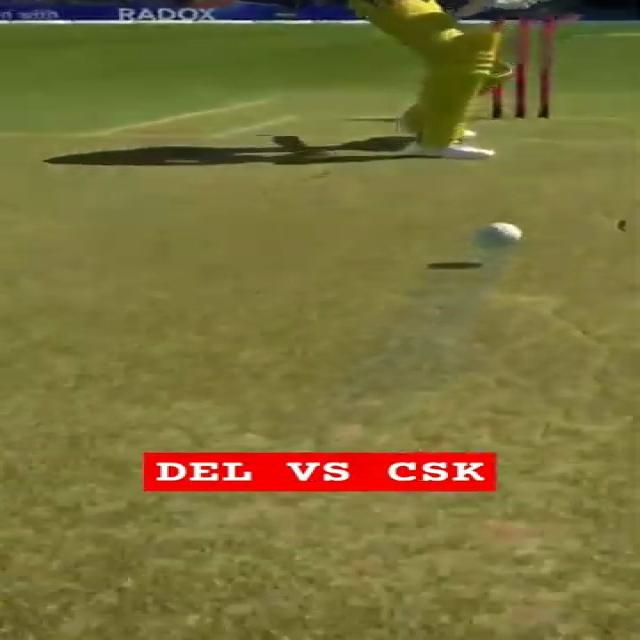ball: (473, 219, 528, 250)
